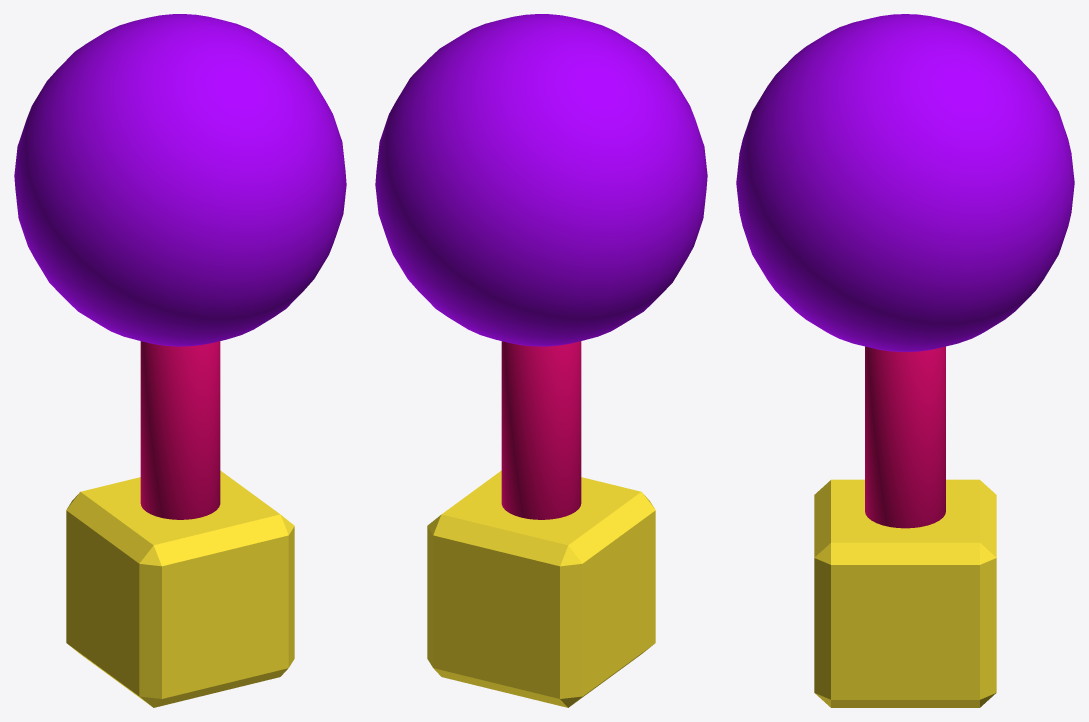
The model's file is cursed_item.glb.
3 views of the same model, side by side, from view 1: azimuth 30°, elevation 25°; view 2: azimuth 150°, elevation 25°; view 3: azimuth 270°, elevation 25° (orthographic).
Visible parts, largest first — view 1: Sphere, Cube, Cylinder; view 2: Sphere, Cube, Cylinder; view 3: Sphere, Cube, Cylinder.
Boxes of the visible parts, <box> form: Sphere: <box>14,14,346,346</box>; Cube: <box>66,470,294,707</box>; Cylinder: <box>140,341,220,519</box>; Sphere: <box>375,14,707,346</box>; Cube: <box>427,470,655,707</box>; Cylinder: <box>501,341,581,519</box>; Sphere: <box>736,14,1074,352</box>; Cube: <box>814,479,996,707</box>; Cylinder: <box>865,346,945,528</box>.
Bounding box in the file's own units: 18.56 × 39.12 × 18.56.
